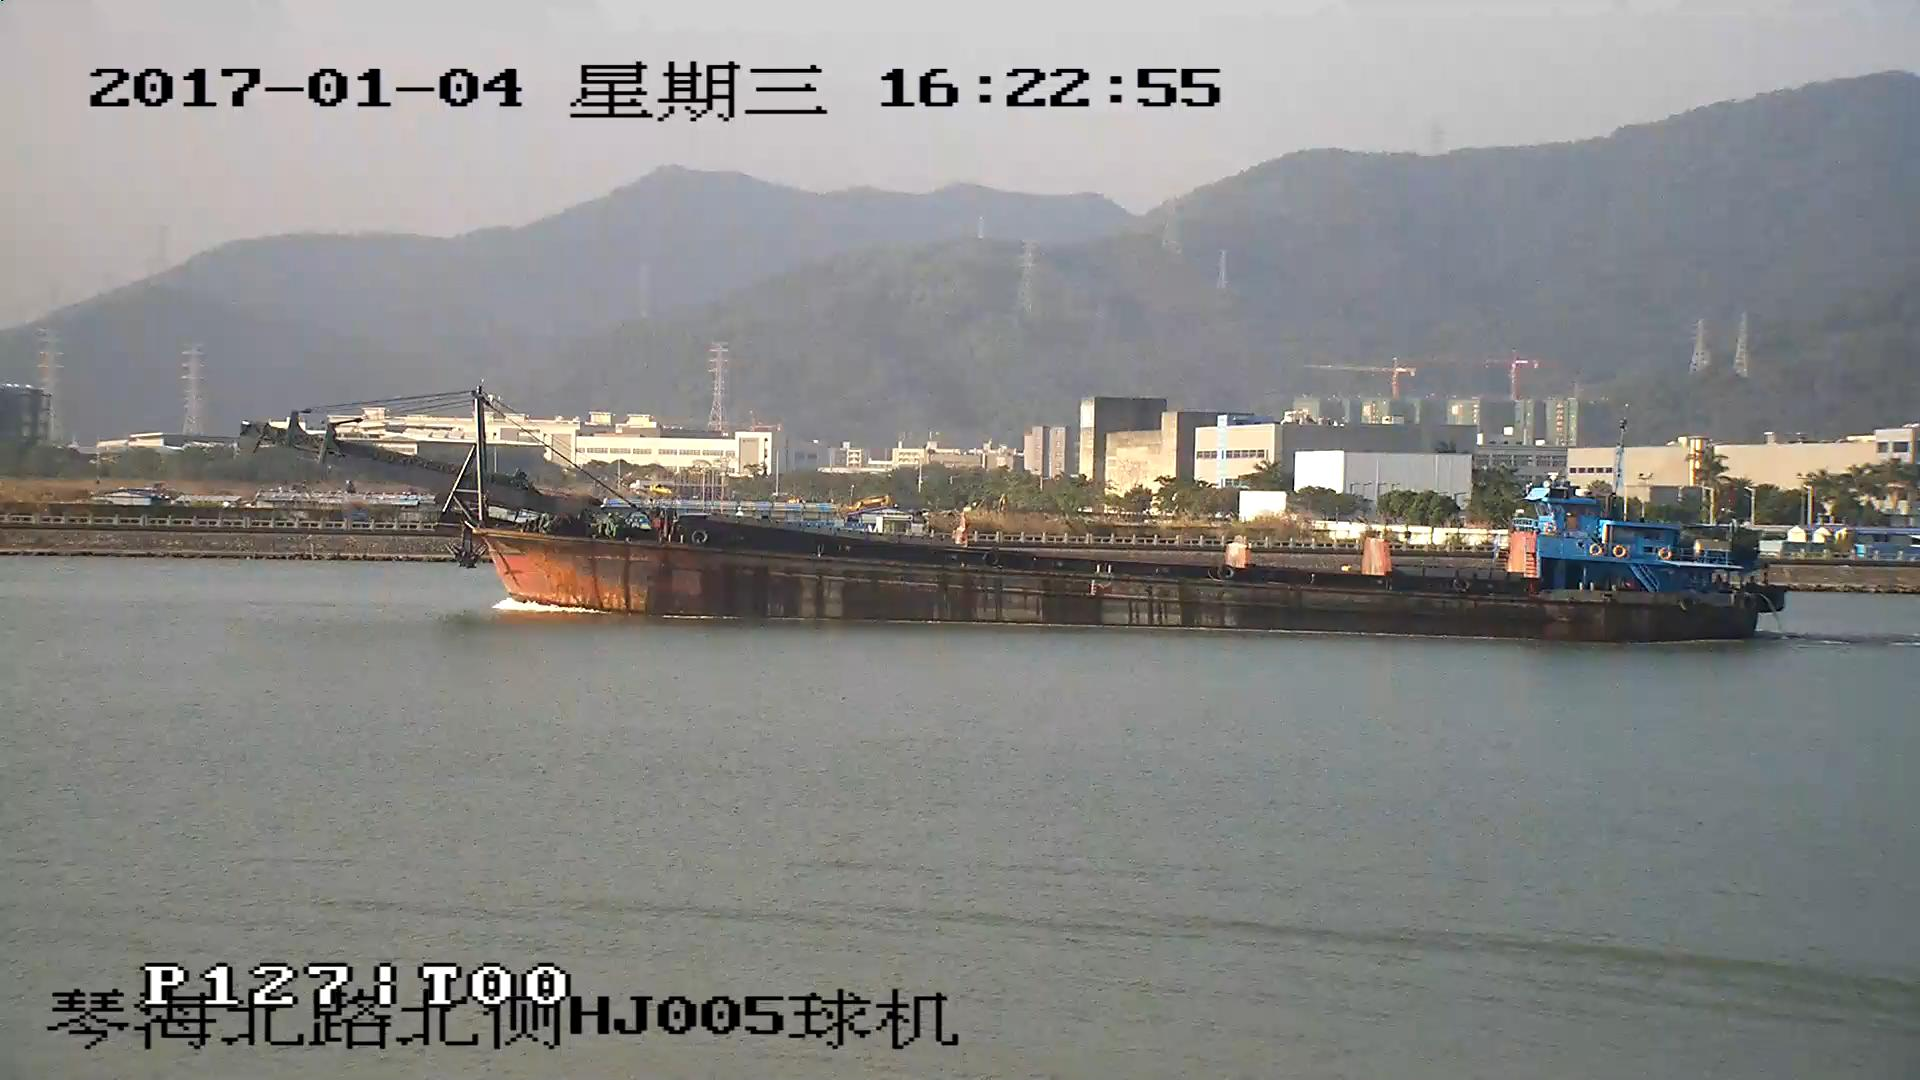bulk cargo carrier: (244, 388, 1782, 643)
